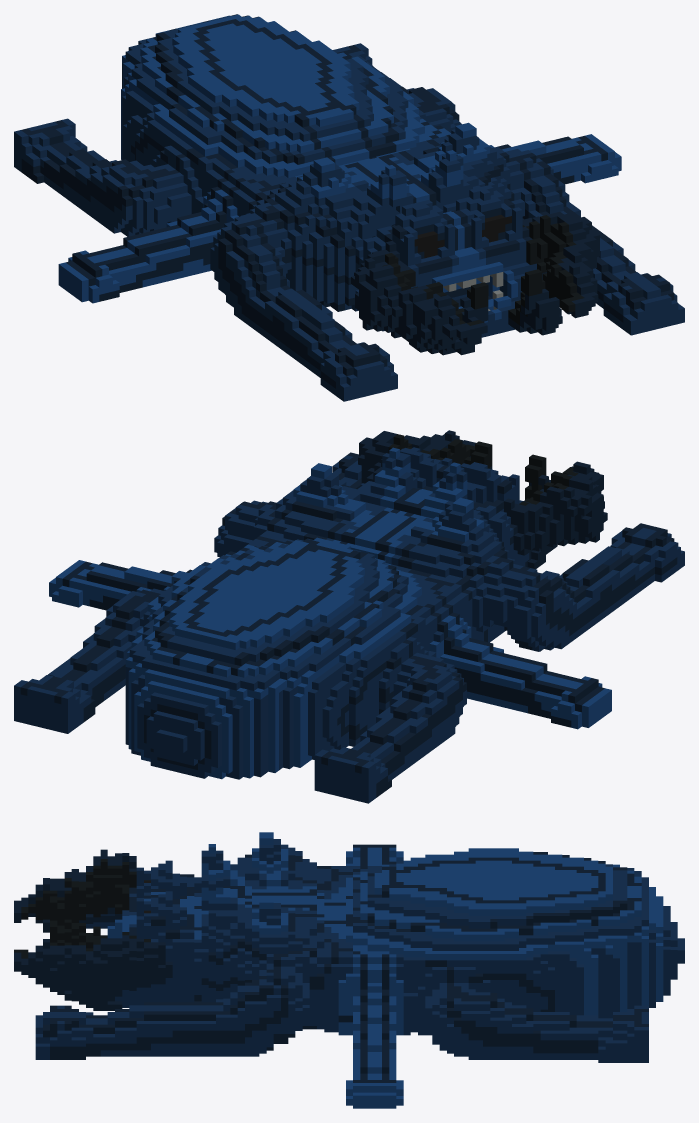
Rendered from beetle_dead_blue_v1-2.obj.
3 renders of one model, top to bottom at view 1: azimuth 30°, elevation 25°; view 2: azimuth 150°, elevation 25°; view 3: azimuth 270°, elevation 25°, orthographic. The views are drawn at different scales.
Bounding box in the file's own units: 8 × 1.9 × 9.3.
1 material, 1 textured.
